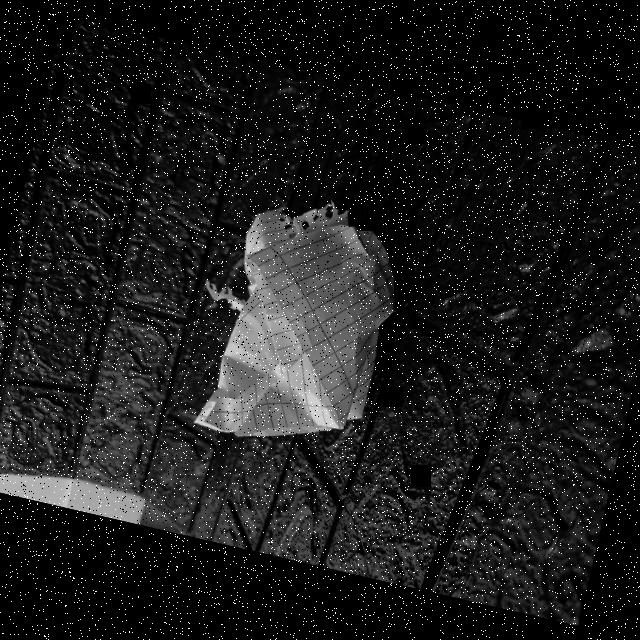scrap_paper: (200, 184, 412, 458)
